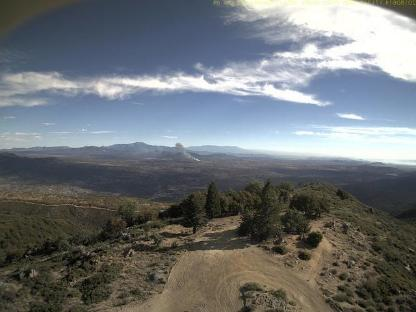smoke: (172, 142, 204, 164)
